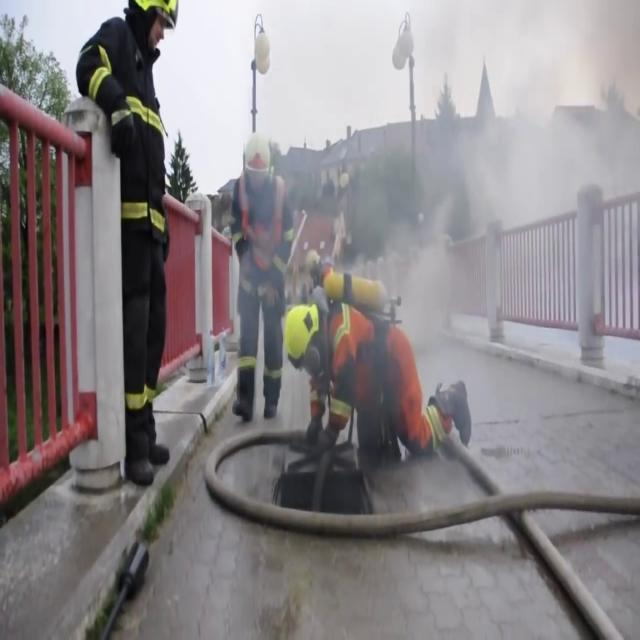Smoke: (367, 1, 640, 374)
